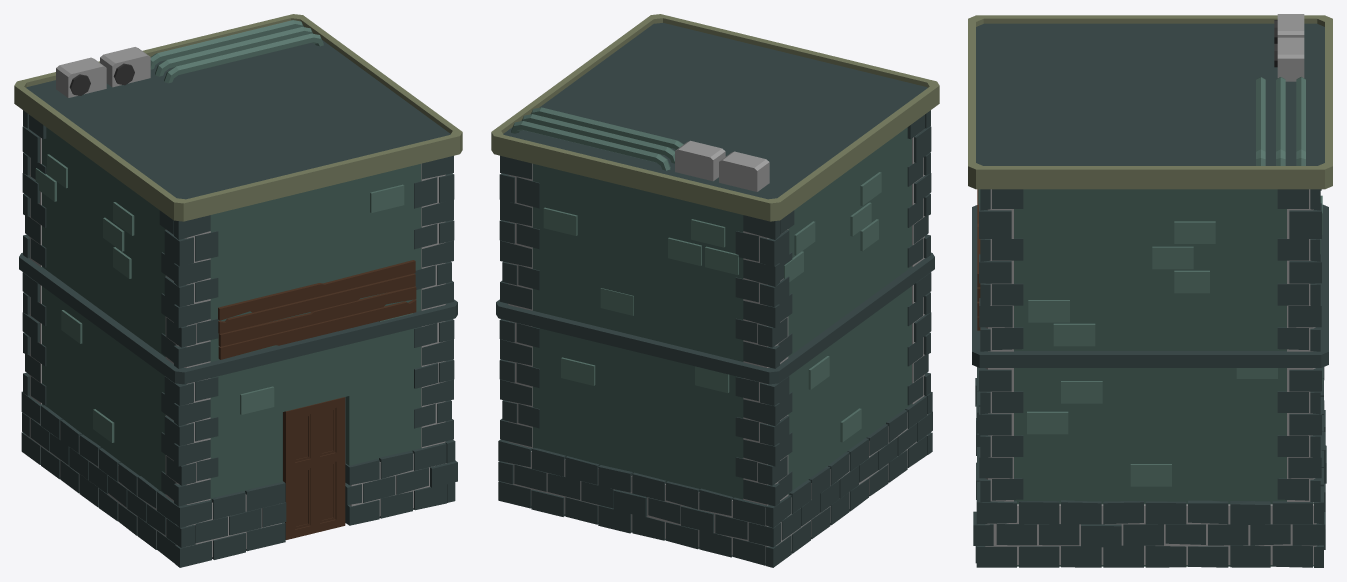
Rendered from 2Story_Sign.glb.
The picture shows the model from 3 angles, left to right: view 1: azimuth 30°, elevation 25°; view 2: azimuth 150°, elevation 25°; view 3: azimuth 270°, elevation 25°; orthographic projection. The views are drawn at different scales.
Visible parts, largest first — view 1: 2Story_Sign_Mat; view 2: 2Story_Sign_Mat; view 3: 2Story_Sign_Mat.
Boxes of the visible parts, x1,y1,x2,y2 form: 2Story_Sign_Mat: (14, 14, 462, 567); 2Story_Sign_Mat: (491, 14, 939, 567); 2Story_Sign_Mat: (968, 14, 1332, 567).
Size of the model in its own units: 2.15 by 2.76 by 2.15.
